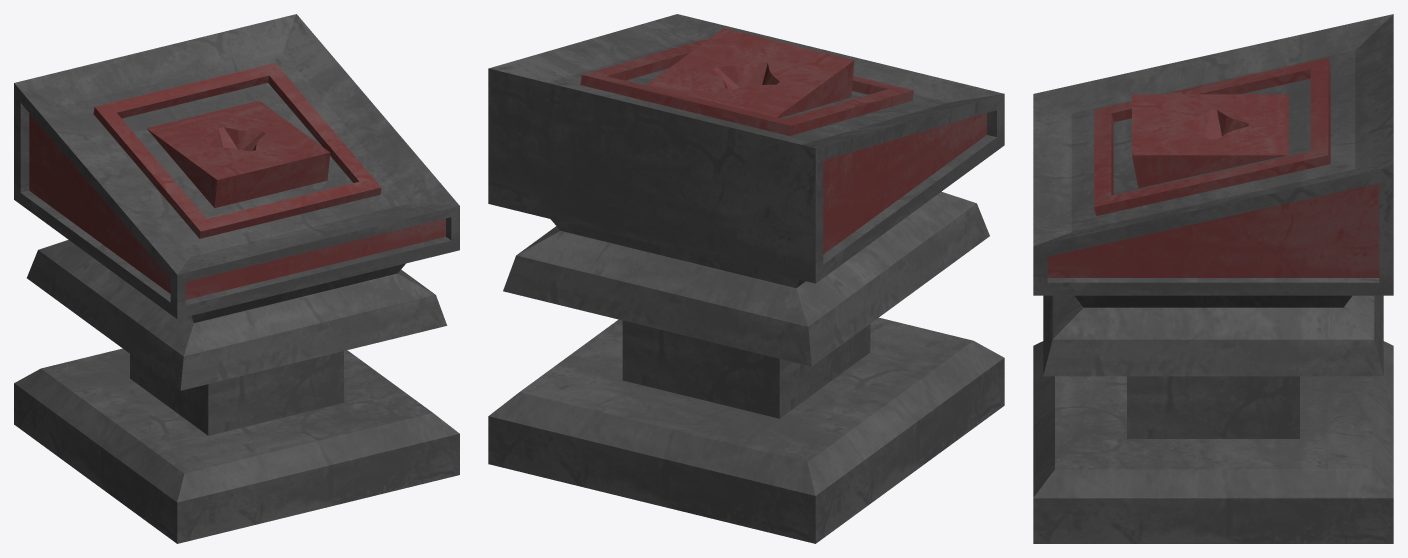
The model's file is AltarTX.fbx.
The picture shows the model from 3 angles, left to right: view 1: azimuth 30°, elevation 25°; view 2: azimuth 150°, elevation 25°; view 3: azimuth 270°, elevation 25°; orthographic projection. The views are drawn at different scales.
Visible parts, largest first — view 1: pAltar1; view 2: pAltar1; view 3: pAltar1.
Boxes of the visible parts, x1,y1,x2,y2 form: pAltar1: (14,14,459,543); pAltar1: (488,14,1004,543); pAltar1: (1033,14,1393,543).
Bounding box in the file's own units: 1 × 1.16 × 1.
Materials: 1 (1 with a texture image).
